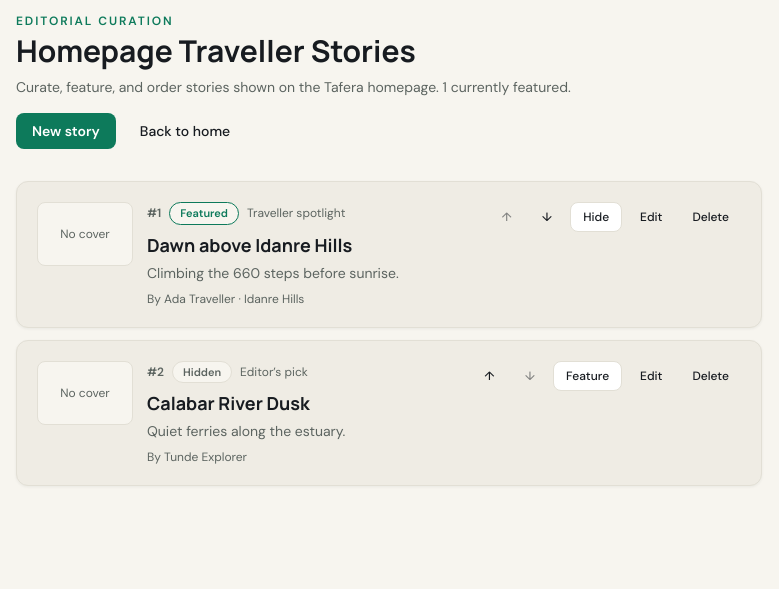
Test: Admin editorial curation page › optimistically toggles featured status and rolls back on failure
The image size is (779, 589).
Expected: the heading "Dawn above Idanre Hills" is shown, [147, 232, 352, 256]
Click the button "Hide": (596, 217) [570, 202, 622, 232]
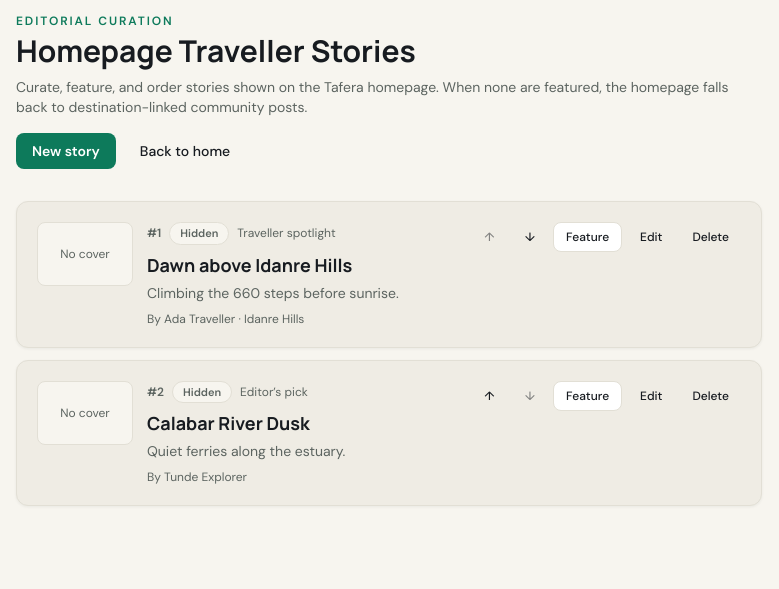
Click the button "Feature" in the row of "Traveller spotlight": (588, 237) [553, 222, 622, 252]
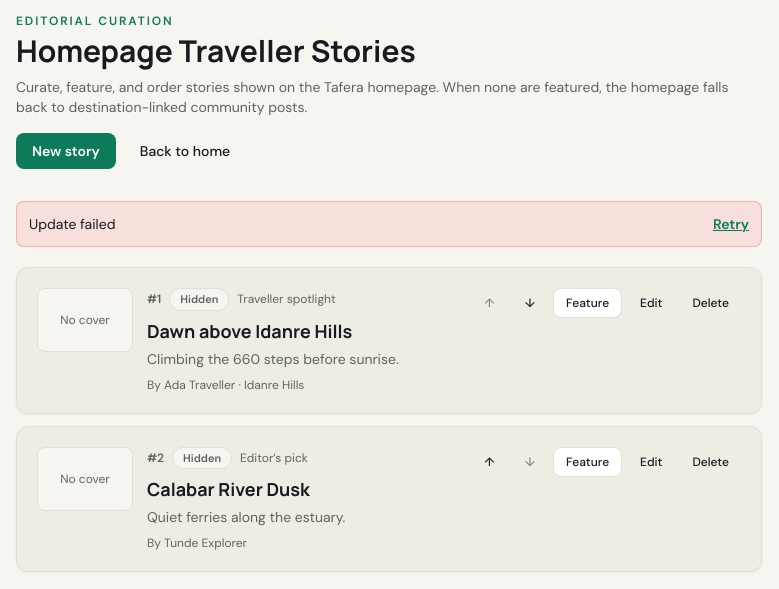
Expected: the text "Hidden" is shown 2 times, [169, 288, 229, 310]; [172, 446, 232, 469]
Now the message shows "Update failed", box [29, 215, 115, 233]
